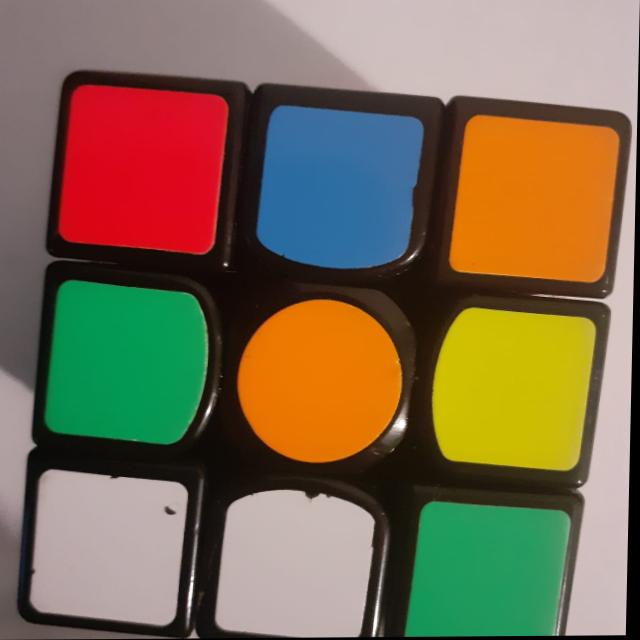Blue: (258, 91, 432, 271)
Green: (403, 501, 573, 638), (54, 294, 199, 443)
Orange: (237, 294, 413, 470), (455, 107, 616, 285)
Red: (66, 79, 222, 253)
White: (17, 452, 192, 631), (217, 486, 385, 638)
Yellow: (431, 300, 593, 484)
